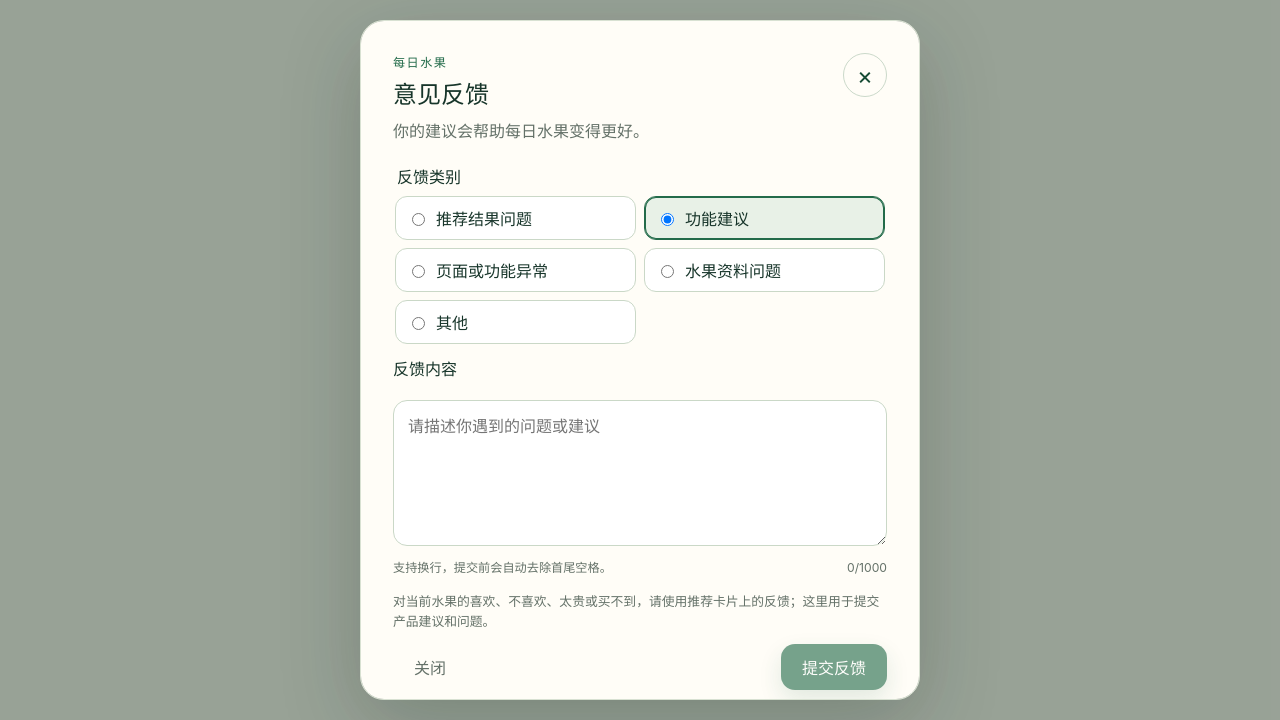
it: ProductFeedbackDialog › submits the selected category, trimmed content and safe page key
Click the radio button labelled "页面或功能异常": (418, 272) x1=412 y1=265 x2=425 y2=278
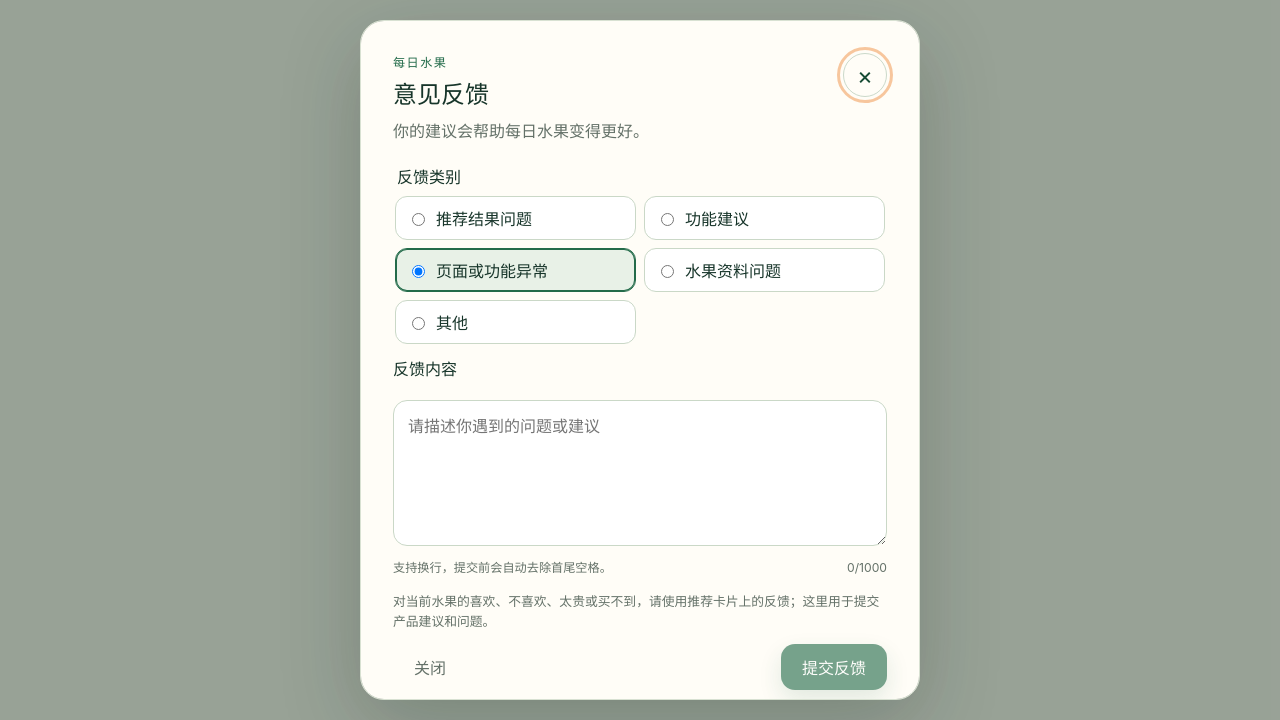
In the text box labelled "反馈内容": (640, 473) x1=393 y1=400 x2=887 y2=546, type "  点击按钮后报错。  "
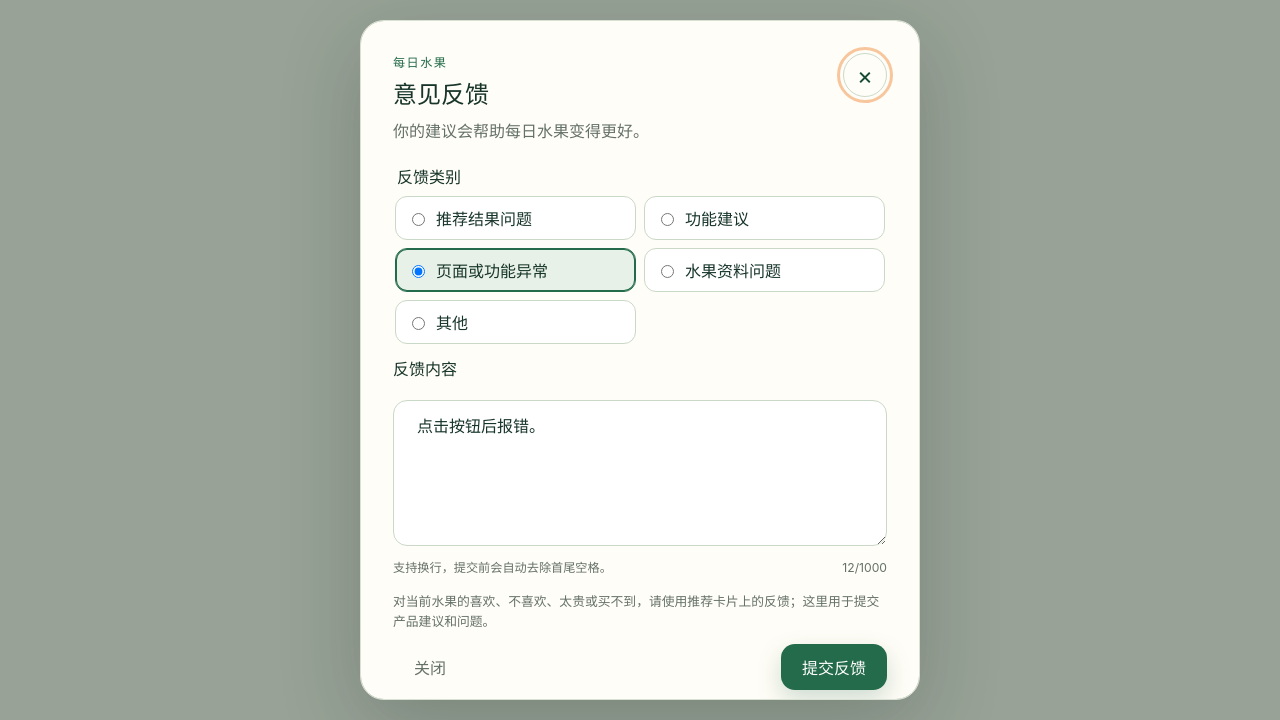
Submit the form, box x1=393 y1=164 x2=887 y2=690
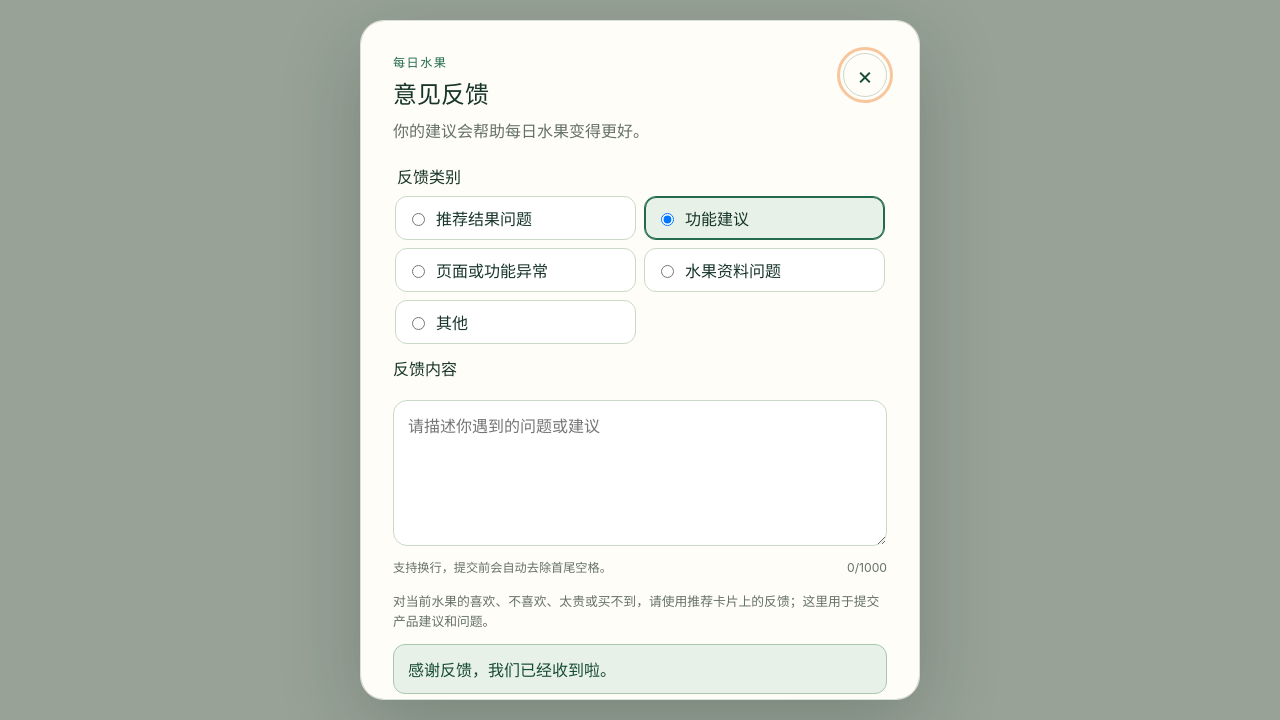
Check: the text "感谢反馈，我们已经收到啦。" is shown, box x1=393 y1=644 x2=887 y2=694
Check: the text box labelled "反馈内容" is empty, box x1=393 y1=400 x2=887 y2=546
